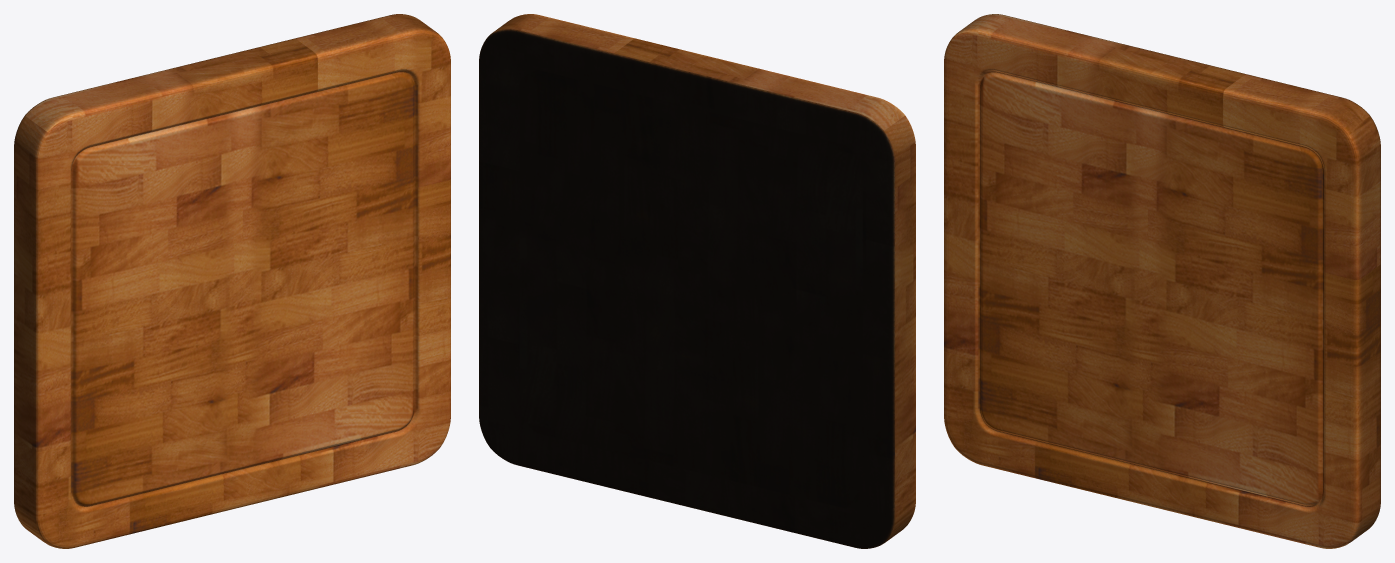
The model's file is Globos_Pared.obj.
The picture shows the model from 3 angles, left to right: view 1: azimuth 30°, elevation 25°; view 2: azimuth 150°, elevation 25°; view 3: azimuth 330°, elevation 25°; orthographic projection.
Visible parts, largest first — view 1: 10330_Wooden_Cutting_Board_v1; view 2: 10330_Wooden_Cutting_Board_v1; view 3: 10330_Wooden_Cutting_Board_v1.
Part boxes in pixels (<box>): 10330_Wooden_Cutting_Board_v1: <box>14,14,450,548</box>; 10330_Wooden_Cutting_Board_v1: <box>479,14,915,548</box>; 10330_Wooden_Cutting_Board_v1: <box>944,14,1380,548</box>.
Bounding box in the file's own units: 12.56 × 12.56 × 1.25.
